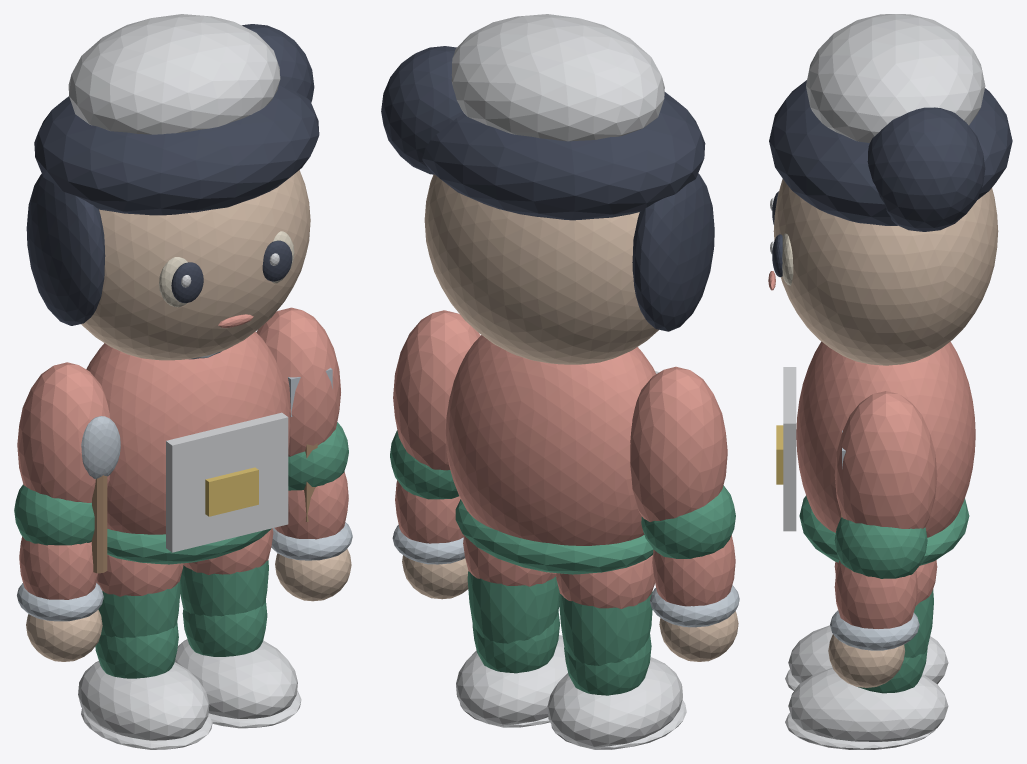
The model's file is avatar_ai_recipe_chef_v3.glb.
3 views of the same model, side by side, from view 1: azimuth 30°, elevation 25°; view 2: azimuth 150°, elevation 25°; view 3: azimuth 270°, elevation 25° (orthographic). The views are drawn at different scales.
Parts seen in each view (by area): view 1: head_face, hair_cap, chef_hat_top, body_core, chef_apron, L_sleeve_upper, hair_side_L, L_shoe, R_sleeve_upper, R_shoe, L_sleeve_lower, R_leg (+22 smaller); view 2: body_core, head_face, chef_hat_top, hair_cap, L_sleeve_upper, hair_side_L, R_sleeve_upper, L_shoe, hair_bun, R_shoe, waist_band, L_leg (+14 smaller); view 3: head_face, body_core, chef_hat_top, hair_cap, R_sleeve_upper, hair_bun, R_shoe, R_elbow, R_sleeve_lower, R_hand, L_shoe, waist_band (+8 smaller).
Part boxes in pixels (x1,y1,x2,y2): head_face: (81,170,310,360); hair_cap: (34,85,319,215); chef_hat_top: (68,14,280,134); body_core: (86,331,290,534); chef_apron: (166,412,288,552); L_sleeve_upper: (17,362,109,502); hair_side_L: (26,174,105,325); L_shoe: (78,661,209,740); R_sleeve_upper: (256,307,340,456); R_shoe: (174,639,297,718); L_sleeve_lower: (19,536,98,599); R_leg: (180,560,268,616); body_core: (445,335,656,573); head_face: (424,174,658,364); chef_hat_top: (451,14,664,141); hair_cap: (422,92,705,220); L_sleeve_upper: (630,366,727,521); hair_side_L: (632,173,714,331); R_sleeve_upper: (393,310,480,470); L_shoe: (547,657,682,749); hair_bun: (381,46,463,174); R_shoe: (456,635,567,727); waist_band: (455,499,653,574); L_leg: (559,591,652,665); head_face: (773,179,998,365); body_core: (796,341,975,537); chef_hat_top: (806,14,985,142); hair_cap: (769,80,1012,225); R_sleeve_upper: (834,391,937,528); hair_bun: (867,107,985,231); R_shoe: (788,668,948,741); R_elbow: (834,517,927,578); R_sleeve_lower: (834,560,917,628); R_hand: (828,634,905,687); L_shoe: (788,625,948,684); waist_band: (799,495,969,565).
Size of the model in its own units: 1.17 by 2.37 by 0.762.
